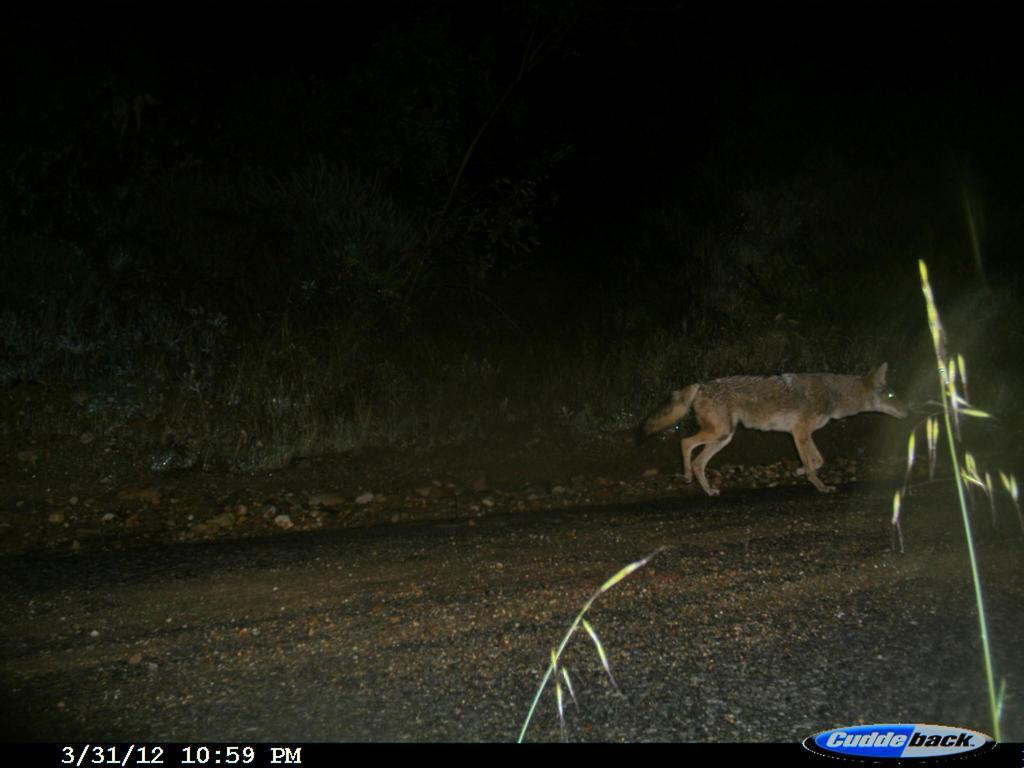coyote: (637, 364, 911, 504)
